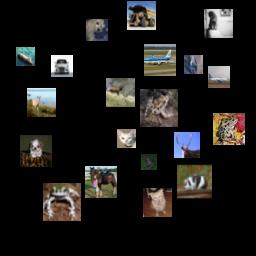airplane: (144, 44, 176, 76), (208, 66, 230, 88)
automobile: (51, 55, 73, 77)
bird: (184, 55, 203, 74)
cat: (177, 164, 212, 199), (204, 9, 233, 38), (117, 129, 136, 148)
deer: (27, 88, 56, 117), (106, 78, 135, 107), (174, 132, 200, 158)
dog: (20, 135, 52, 167), (143, 188, 172, 217), (86, 19, 108, 41)
frog: (140, 89, 178, 127), (43, 183, 81, 221), (213, 113, 245, 145), (141, 154, 157, 170)
ship: (16, 47, 35, 66)
truck: (127, 1, 156, 30)
